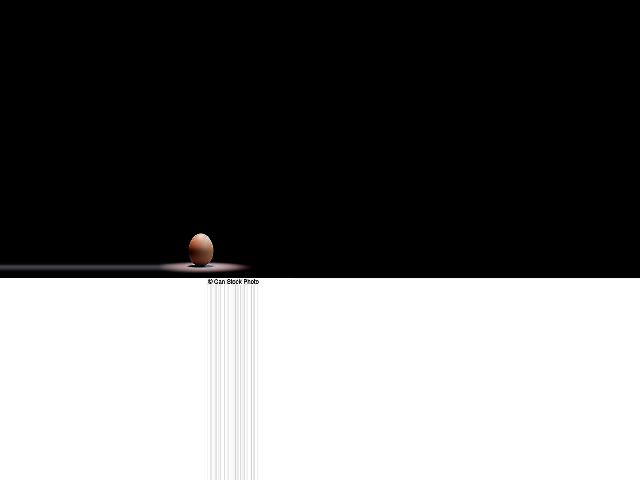egg: (188, 233, 214, 266)
